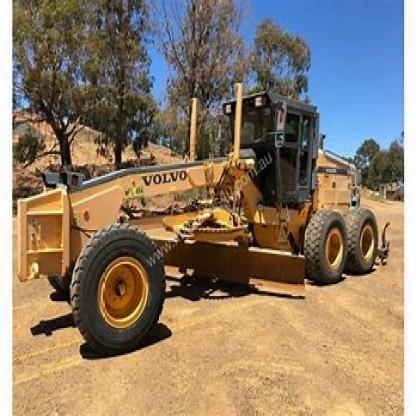bull_dozer/loader/grader: (19, 76, 381, 342)
